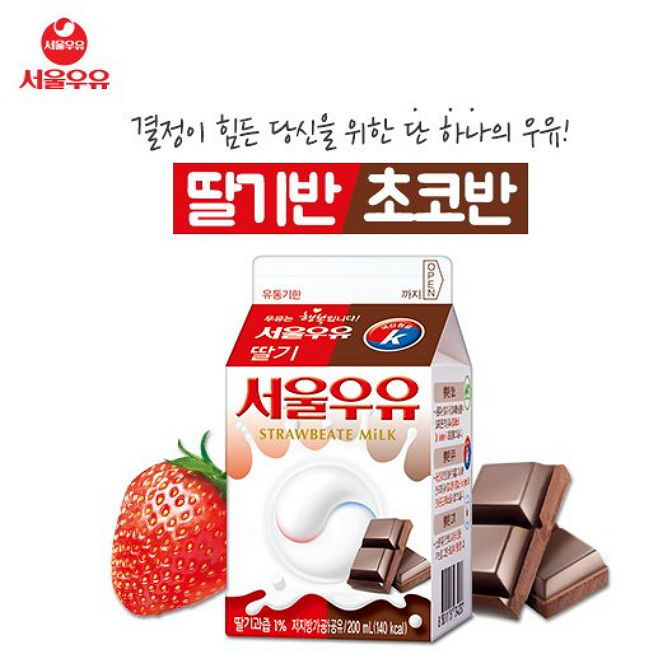milk: (224, 256, 478, 644)
